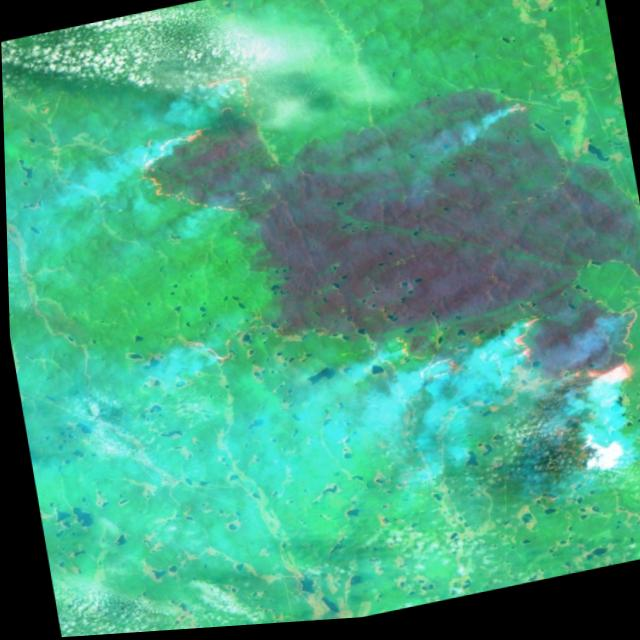fire: (122, 69, 278, 234), (500, 301, 640, 416), (385, 328, 464, 397), (178, 332, 236, 378), (496, 99, 538, 132)
